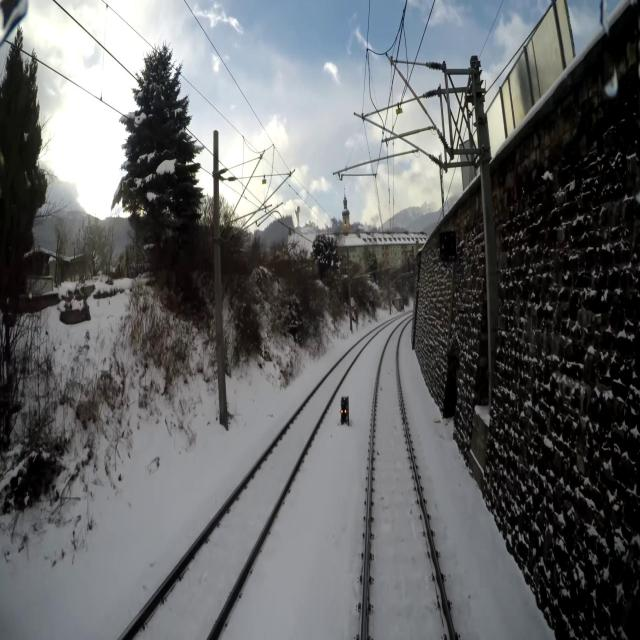rail-track: (123, 333, 372, 639), (365, 321, 451, 639)
